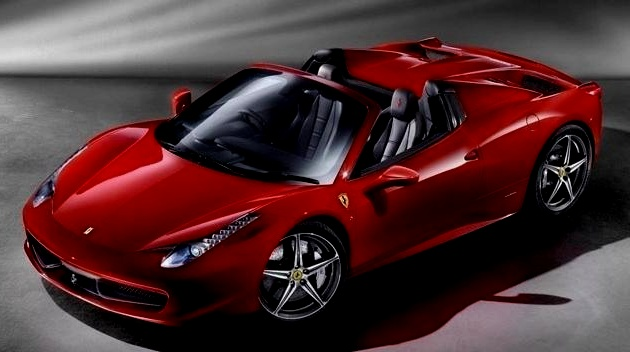car: (1, 27, 622, 345)
